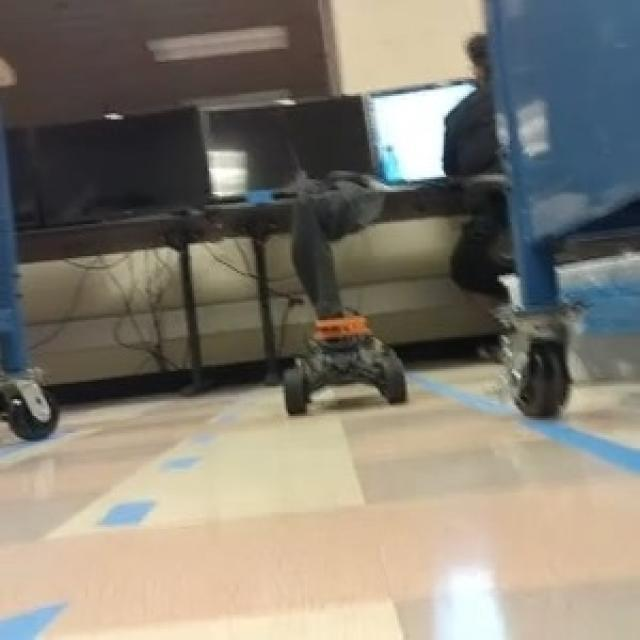obstacle: (269, 313, 414, 422)
